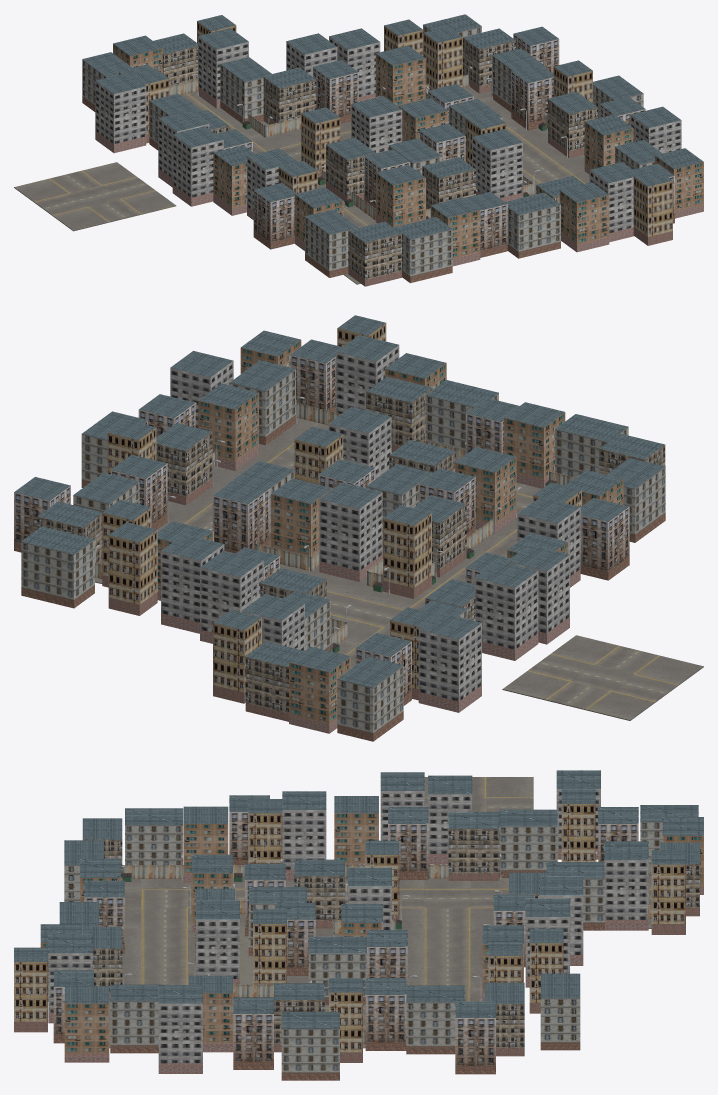
The model's file is CityScene.fbx.
3 views of the same model, one above another, from view 1: azimuth 30°, elevation 25°; view 2: azimuth 150°, elevation 25°; view 3: azimuth 270°, elevation 25° (orthographic). The views are drawn at different scales.
Parts seen in each view (by area): view 1: RoadCross, Building5.008, Building5.009, Building5, Building2.006, Building6.005, Building4.005, Building2.007, Building3.005, Building6, Building2.011, Building6.002 (+54 smaller); view 2: RoadCross, Building5.008, Building5.001, Building5.010, Building2.004, Building2.010, Building3.004, Building3, Building6.003, Building6.008, Building5.002, Building5.006 (+55 smaller); view 3: RoadThreeLane, RoadStraight.002, RoadStraight.004, Building2.005, Building5.005, Building5.004, Building2.009, Building2.002, Building4.007, Building6.004, Building2.003, Building5 (+57 smaller).
Boxes of the visible parts, <box> form: RoadCross: <box>14,162,176,231</box>; Building5.008: <box>95,72,146,153</box>; Building5.009: <box>172,126,223,206</box>; Building5: <box>472,129,522,201</box>; Building2.006: <box>505,192,560,258</box>; Building6.005: <box>559,182,609,252</box>; Building4.005: <box>348,221,401,286</box>; Building2.007: <box>394,217,452,283</box>; Building3.005: <box>633,170,672,245</box>; Building6: <box>376,165,425,227</box>; Building2.011: <box>305,209,358,277</box>; Building6.002: <box>375,45,425,106</box>; RoadCross: <box>502,635,703,720</box>; Building5.008: <box>418,613,481,712</box>; Building5.001: <box>319,482,382,581</box>; Building5.010: <box>474,561,538,660</box>; Building2.004: <box>21,526,94,608</box>; Building2.010: <box>337,656,403,741</box>; Building3.004: <box>108,522,157,615</box>; Building3: <box>383,505,431,598</box>; Building6.003: <box>198,383,258,470</box>; Building6.008: <box>289,646,350,733</box>; Building5.002: <box>161,534,224,633</box>; Building5.006: <box>200,550,263,643</box>; RoadThreeLane: <box>395,878,508,928</box>; RoadStraight.002: <box>395,928,482,987</box>; RoadStraight.004: <box>122,928,195,984</box>; Building2.005: <box>281,1012,339,1080</box>; Building5.005: <box>604,841,648,930</box>; Building5.004: <box>158,985,202,1073</box>; Building2.009: <box>499,809,557,877</box>; Building2.002: <box>406,985,464,1054</box>; Building4.007: <box>448,812,499,880</box>; Building6.004: <box>64,986,109,1062</box>; Building2.003: <box>110,984,168,1053</box>; Building5: <box>196,900,239,984</box>.
Size of the model in its own units: 16475 by 1811 by 15826.
